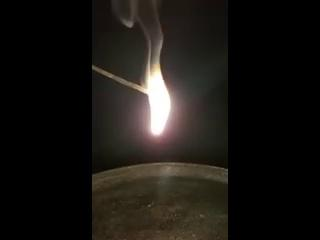Fire: (144, 36, 173, 139)
